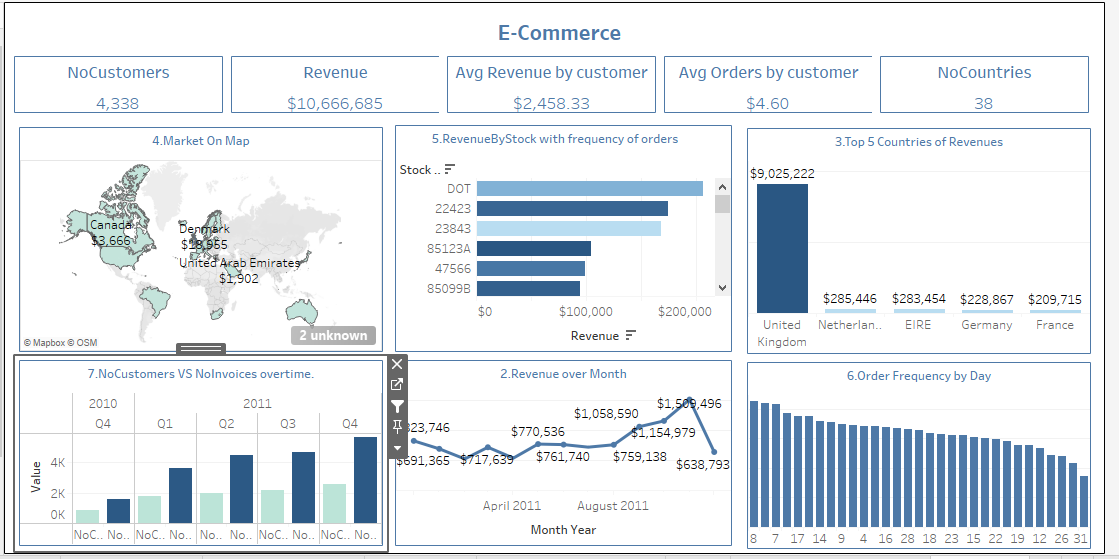

The page's visual inventory and layout, read from the dashboard file:
{"tool":"tableau","page":{"name":"Ecommerce","canvas":[1101,552],"ordinal":0},"visuals":[{"type":"text","box":[17,9,1077,41]},{"type":"worksheet","title":"NoCustomers","mark":"Automatic","box":[6,50,216.6,65]},{"type":"worksheet","title":"Revenue","mark":"Automatic","box":[222.6,50,216.6,65]},{"type":"worksheet","title":"AvgRevenue/customer","mark":"Automatic","box":[439.2,50,216.6,65]},{"type":"worksheet","title":"AvgOrders/customer","mark":"Automatic","box":[655.8,50,216.6,65]},{"type":"worksheet","title":"NoCountries","mark":"Automatic","box":[872.4,50,216.6,65]},{"type":"worksheet","title":"5.RevenueByStock with frequency of orders","mark":"Automatic","rows":["StockCode"],"cols":["Calculation_1011621112659795972"],"box":[387,119,345,235]},{"type":"worksheet","title":"4.Market On Map","mark":"Automatic","box":[11,121,372,233.5]},{"type":"worksheet","title":"3.Top 5 Countries of Revenues","mark":"Automatic","rows":["Calculation_1011621112659795972"],"cols":["Country"],"box":[739,122,352,234]},{"type":"worksheet","title":"2.Revenue over Month","mark":"Automatic","rows":["Calculation_1011621112659795972"],"cols":["InvoiceDate"],"box":[387,354,345,194]},{"type":"worksheet","title":"7.NoCustomers VS NoInvoices overtime.","mark":"Bar","cols":["InvoiceDate","InvoiceDate"],"box":[11,354.5,372,194.5]},{"type":"worksheet","title":"6.Order Frequency by Day","mark":"Bar","rows":["Calculation_1011621112691363858"],"cols":["InvoiceDate"],"box":[739,356,352,195]}]}

Visuals, with their boxes in screenshot pixels (x1, y1, x2, y2), scaled from the page's 1101x552 canvas onto the 1119x559 screenshot:
text: <region>17, 9, 1112, 51</region>
"NoCustomers" worksheet: <region>6, 51, 226, 116</region>
"Revenue" worksheet: <region>226, 51, 446, 116</region>
"AvgRevenue/customer" worksheet: <region>446, 51, 667, 116</region>
"AvgOrders/customer" worksheet: <region>667, 51, 887, 116</region>
"NoCountries" worksheet: <region>887, 51, 1107, 116</region>
"5.RevenueByStock with frequency of orders" worksheet: <region>393, 121, 744, 358</region>
"4.Market On Map" worksheet: <region>11, 123, 389, 359</region>
"3.Top 5 Countries of Revenues" worksheet: <region>751, 124, 1109, 361</region>
"2.Revenue over Month" worksheet: <region>393, 358, 744, 555</region>
"7.NoCustomers VS NoInvoices overtime." worksheet (Bar marks): <region>11, 359, 389, 556</region>
"6.Order Frequency by Day" worksheet (Bar marks): <region>751, 361, 1109, 558</region>
